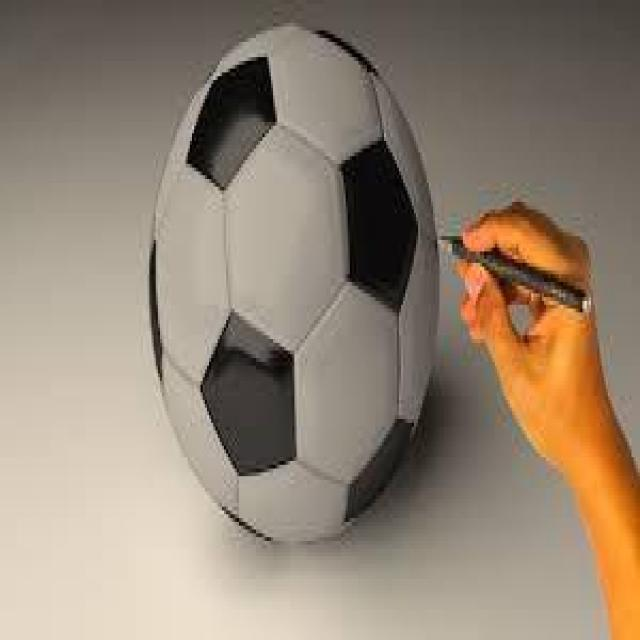Soccer Ball: (152, 26, 438, 548)
